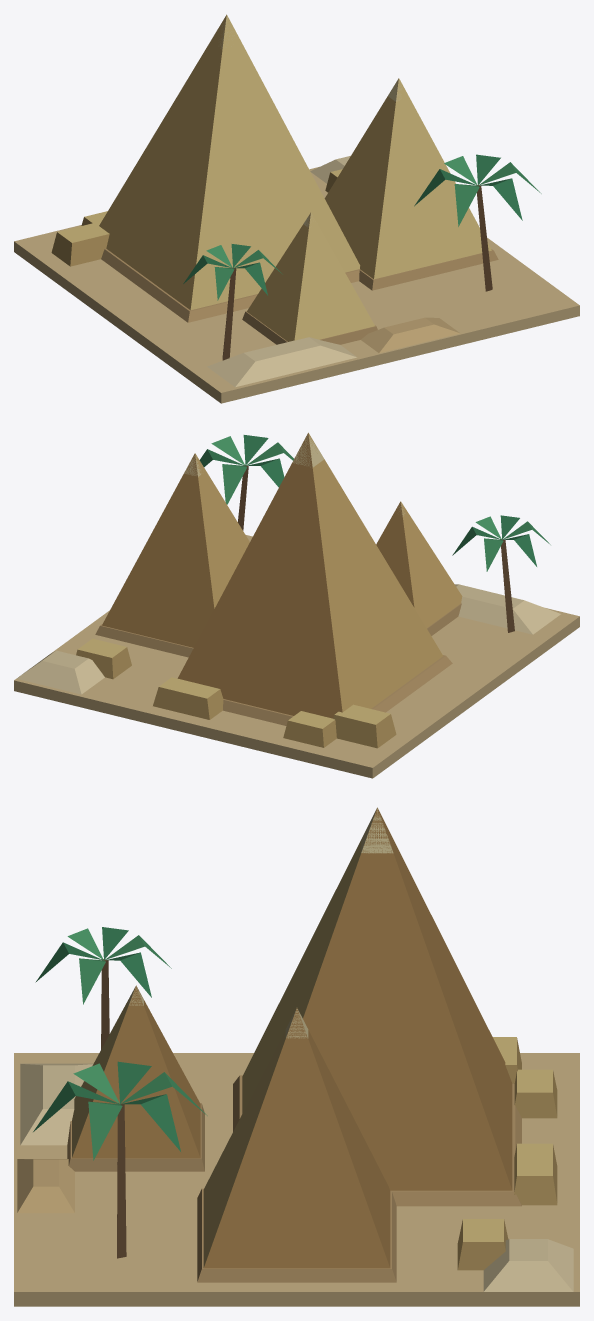
The model's file is gizeh.glb.
3 renders of one model, top to bottom at view 1: azimuth 30°, elevation 25°; view 2: azimuth 150°, elevation 25°; view 3: azimuth 270°, elevation 25°, orthographic. The views are drawn at different scales.
Visible parts, largest first — view 1: gizeh; view 2: gizeh; view 3: gizeh.
Boxes of the visible parts, box(x1,y1,x2,y2) form: gizeh: box(14, 14, 579, 403); gizeh: box(14, 432, 579, 778); gizeh: box(14, 807, 579, 1306).
Size of the model in its own units: 1.76 by 1.21 by 1.76.
